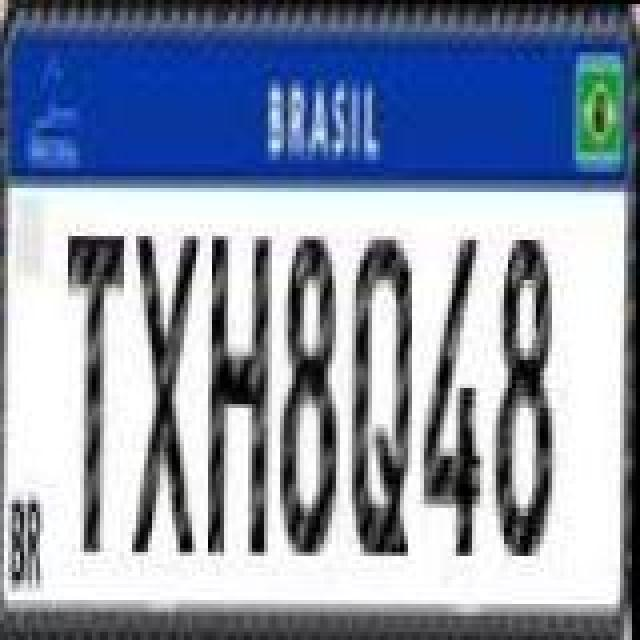4: (420, 232, 484, 556)
8: (278, 226, 346, 562), (490, 230, 558, 554)
H: (208, 232, 280, 556)
Q: (350, 232, 418, 556)
T: (64, 230, 128, 554)
X: (132, 232, 204, 556)
